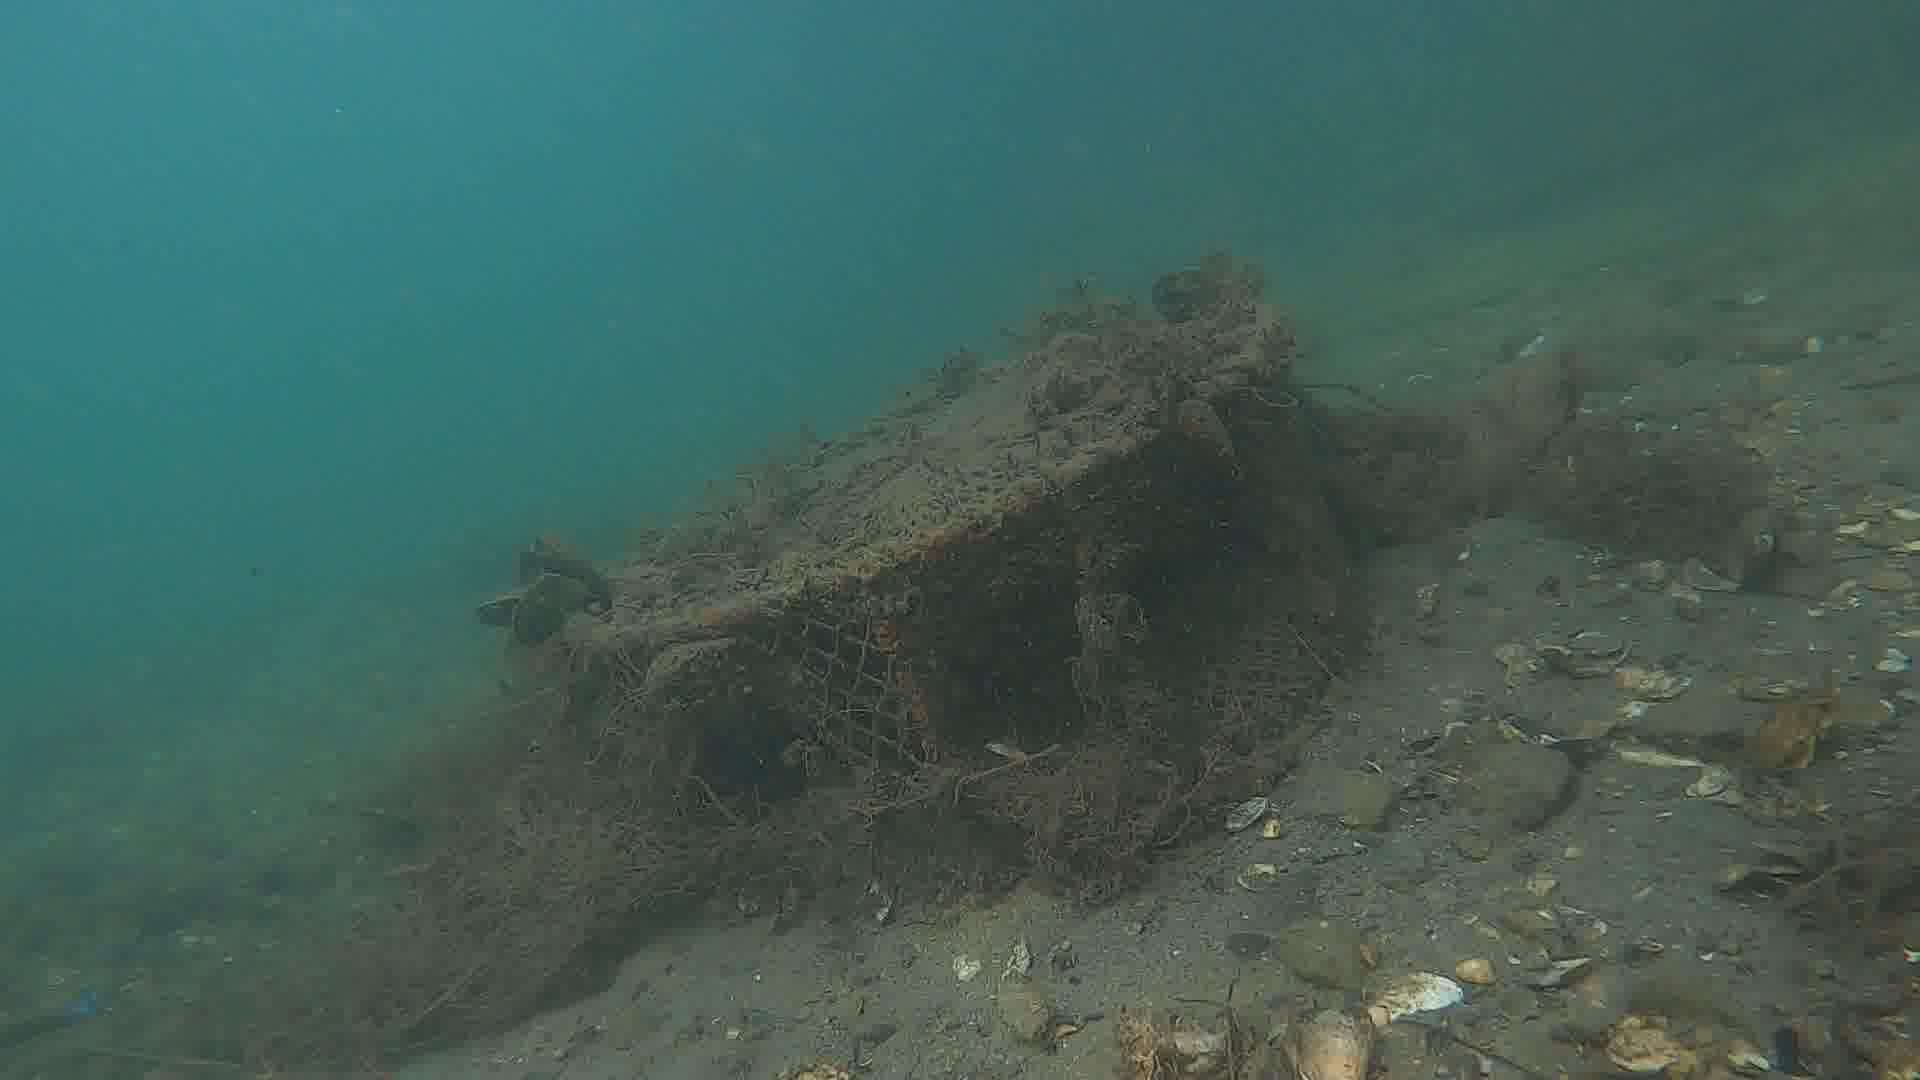circular fish trap: (546, 287, 1371, 919)
